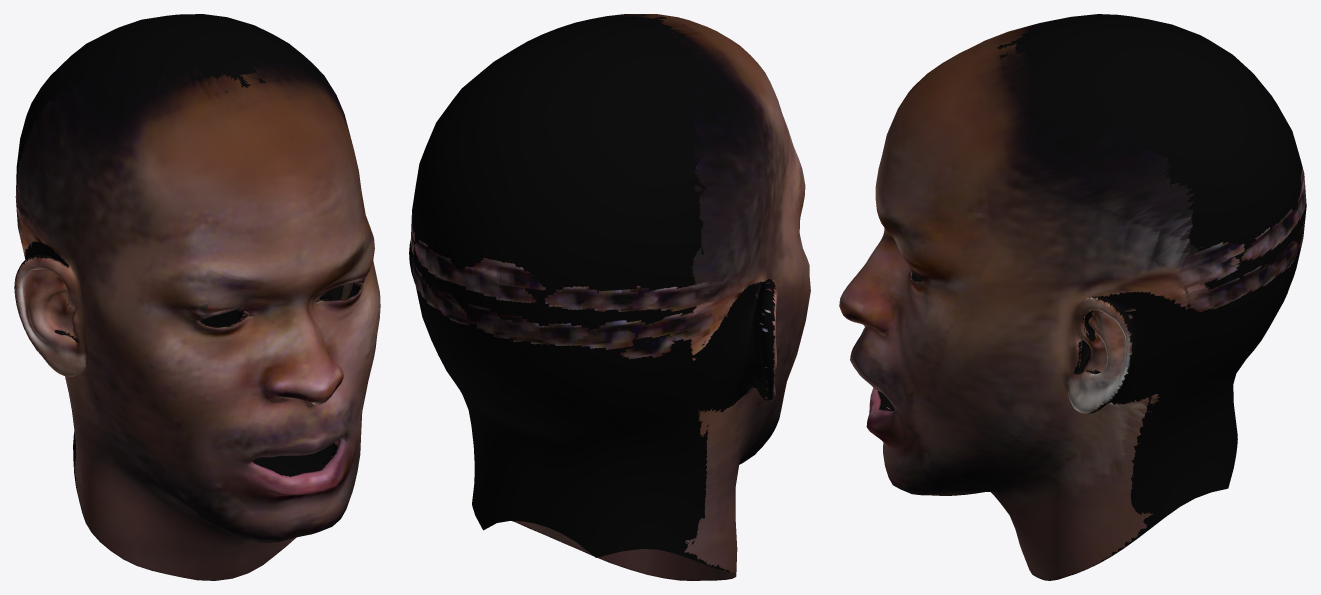
Rendered from LipDown.obj.
3 views of the same model, side by side, from view 1: azimuth 30°, elevation 25°; view 2: azimuth 150°, elevation 25°; view 3: azimuth 270°, elevation 25° (orthographic). The views are drawn at different scales.
Bounding box in the file's own units: 191 × 281 × 224.
